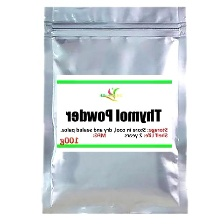insecticide: (39, 2, 192, 219)
